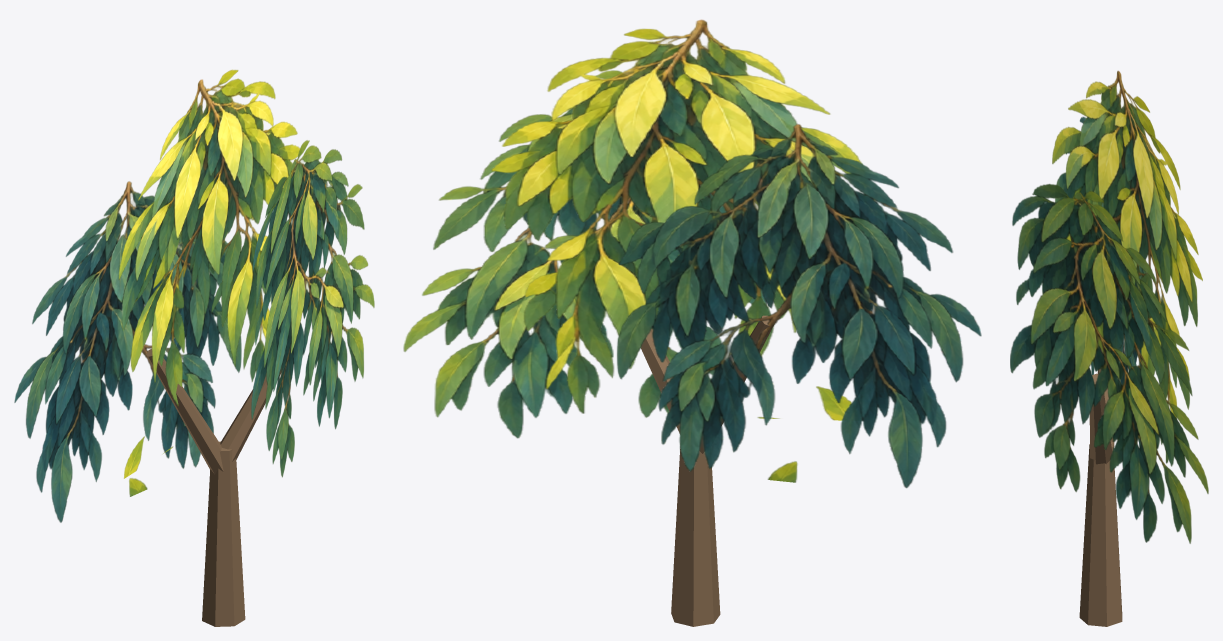
The model's file is TREE_NATIVE_ROUNDED_001_V4_RICH_LOD_MAP.glb.
3 renders of one model, left to right at view 1: azimuth 30°, elevation 25°; view 2: azimuth 150°, elevation 25°; view 3: azimuth 270°, elevation 25°, orthographic. The views are drawn at different scales.
Visible parts, largest first — view 1: GG_NATIVE_RICH_CARD_00, GG_NATIVE_RICH_CARD_01, GG_NATIVE_RICH_CARD_02, GG_NATIVE_V4_LOCKED_CARCASS_00, GG_NATIVE_V4_LOCKED_CARCASS_01, GG_NATIVE_V4_LOCKED_CARCASS_02; view 2: GG_NATIVE_RICH_CARD_01, GG_NATIVE_RICH_CARD_00, GG_NATIVE_RICH_CARD_02, GG_NATIVE_V4_LOCKED_CARCASS_00, GG_NATIVE_V4_LOCKED_CARCASS_02; view 3: GG_NATIVE_RICH_CARD_02, GG_NATIVE_RICH_CARD_00, GG_NATIVE_V4_LOCKED_CARCASS_00, GG_NATIVE_V4_LOCKED_CARCASS_02, GG_NATIVE_RICH_CARD_01.
Part boxes in pixels (x1,y1,x2,y2): GG_NATIVE_RICH_CARD_00: (118, 69, 299, 478); GG_NATIVE_RICH_CARD_01: (14, 181, 241, 522); GG_NATIVE_RICH_CARD_02: (251, 140, 374, 477); GG_NATIVE_V4_LOCKED_CARCASS_00: (202, 441, 245, 626); GG_NATIVE_V4_LOCKED_CARCASS_01: (146, 348, 223, 474); GG_NATIVE_V4_LOCKED_CARCASS_02: (220, 368, 281, 461); GG_NATIVE_RICH_CARD_01: (617, 124, 981, 488); GG_NATIVE_RICH_CARD_00: (491, 19, 862, 420); GG_NATIVE_RICH_CARD_02: (403, 70, 766, 438); GG_NATIVE_V4_LOCKED_CARCASS_00: (671, 447, 720, 626); GG_NATIVE_V4_LOCKED_CARCASS_02: (640, 328, 680, 434); GG_NATIVE_RICH_CARD_02: (1010, 184, 1208, 543); GG_NATIVE_RICH_CARD_00: (1052, 71, 1202, 463); GG_NATIVE_V4_LOCKED_CARCASS_00: (1079, 442, 1122, 626); GG_NATIVE_V4_LOCKED_CARCASS_02: (1089, 373, 1112, 464); GG_NATIVE_RICH_CARD_01: (1066, 116, 1146, 446).
Bounding box in the file's own units: 37.71 × 44.37 × 14.8.
2 materials, 1 textured.
